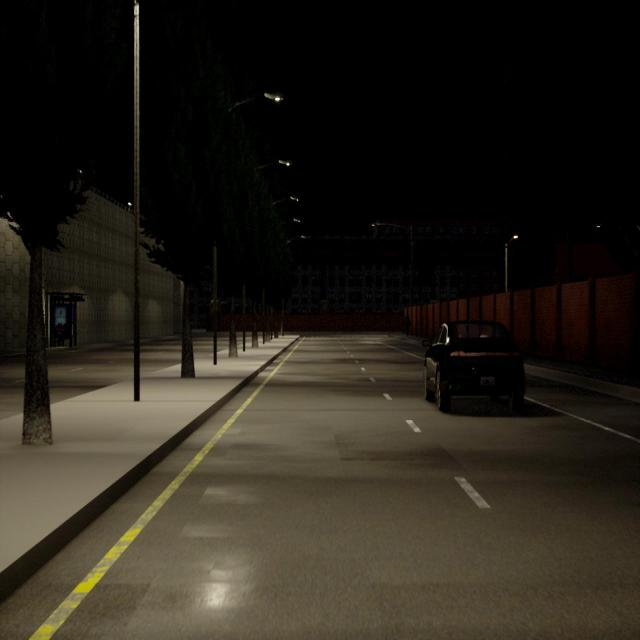Pedestrian: (404, 312, 410, 338)
Vehicle: (424, 320, 522, 409)
